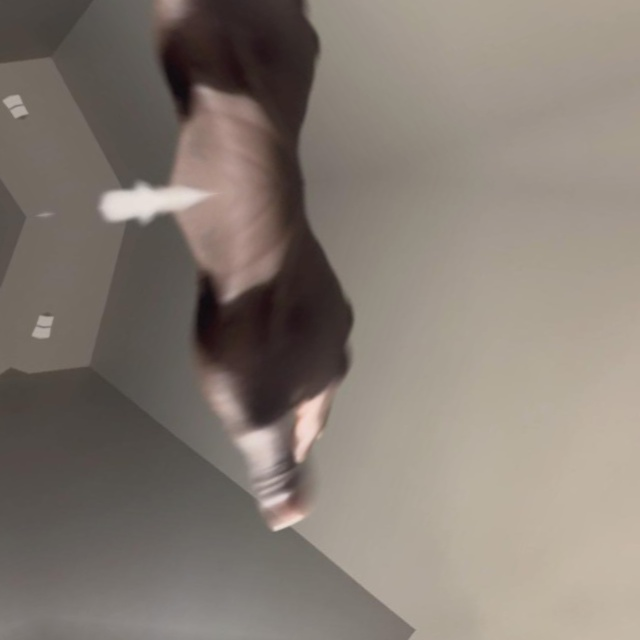Paper: (47, 0, 388, 197)
